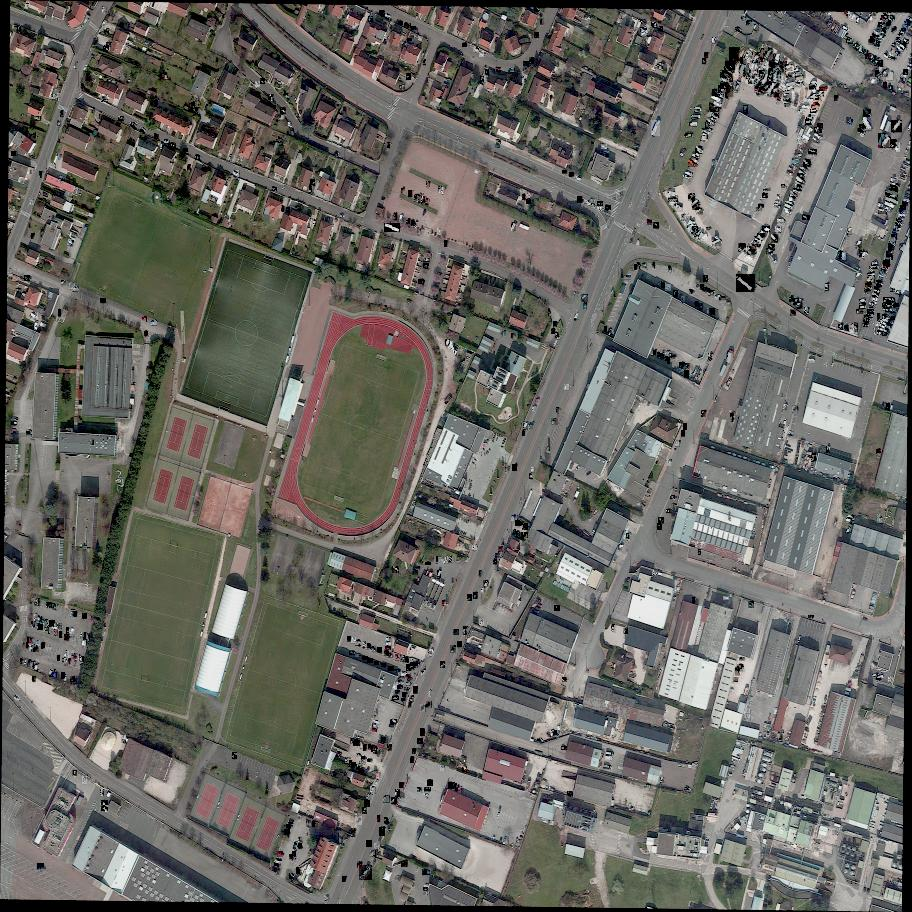large-vehicle: (736, 274, 756, 292), (359, 866, 373, 880), (729, 48, 740, 64), (384, 223, 401, 233), (651, 120, 661, 137), (720, 71, 733, 83), (724, 61, 736, 74), (769, 85, 780, 98), (761, 82, 772, 95), (726, 85, 736, 99), (800, 87, 805, 113), (760, 74, 770, 87), (765, 49, 775, 62), (767, 83, 776, 97), (892, 120, 902, 132), (878, 134, 886, 148), (882, 137, 892, 148), (747, 247, 758, 257), (709, 103, 721, 112), (753, 81, 762, 93), (863, 118, 871, 131), (768, 68, 776, 81), (673, 203, 683, 213), (779, 61, 788, 72), (752, 53, 761, 64), (739, 64, 746, 78), (885, 196, 897, 204), (712, 89, 724, 97), (885, 190, 898, 197), (771, 234, 780, 244), (757, 87, 766, 97), (727, 349, 733, 363), (770, 55, 776, 69), (773, 69, 779, 83), (890, 181, 899, 190), (886, 73, 895, 82), (718, 86, 727, 95), (720, 82, 729, 91), (738, 243, 747, 252), (744, 253, 754, 261), (777, 94, 785, 104), (890, 140, 898, 150), (797, 177, 806, 185), (889, 187, 898, 195), (748, 76, 756, 85), (754, 236, 763, 244), (689, 161, 698, 169), (690, 157, 699, 165), (706, 119, 715, 127), (711, 113, 720, 121), (857, 128, 865, 137), (859, 125, 868, 133), (749, 52, 756, 62), (760, 48, 765, 62), (759, 70, 766, 80), (795, 75, 805, 82), (701, 129, 711, 136), (775, 54, 781, 65), (100, 805, 108, 813), (863, 109, 871, 117), (849, 14, 857, 22), (687, 221, 695, 229), (694, 231, 702, 239), (724, 67, 732, 75), (784, 205, 793, 212), (814, 133, 823, 140), (511, 222, 518, 231), (380, 827, 387, 836), (867, 276, 876, 283), (691, 201, 700, 208), (692, 227, 699, 236), (713, 240, 722, 247), (762, 226, 771, 233), (720, 78, 730, 84), (803, 160, 811, 167), (884, 53, 892, 60), (811, 104, 819, 111), (856, 241, 863, 249), (856, 273, 863, 281), (762, 62, 769, 70), (786, 65, 794, 72), (786, 85, 794, 92), (757, 234, 765, 241), (683, 175, 691, 182), (790, 192, 799, 198), (808, 149, 817, 155), (849, 325, 855, 334), (777, 71, 781, 84), (896, 142, 901, 152), (697, 209, 704, 216), (689, 225, 696, 232), (750, 244, 757, 251), (790, 309, 797, 316), (788, 194, 796, 200), (813, 138, 821, 144), (852, 324, 858, 332), (455, 348, 461, 356), (702, 234, 708, 242), (795, 72, 803, 78), (746, 74, 752, 82), (714, 101, 722, 107), (750, 63, 756, 71), (753, 79, 759, 87), (705, 123, 713, 129), (878, 209, 887, 214), (699, 232, 704, 241), (764, 47, 767, 62), (692, 154, 701, 159), (736, 82, 740, 93), (795, 181, 802, 187), (797, 174, 804, 180), (800, 167, 807, 173), (870, 14, 876, 21), (810, 93, 817, 99), (805, 120, 812, 126), (817, 91, 824, 97), (450, 344, 456, 351), (523, 424, 529, 431), (618, 544, 624, 551), (859, 251, 866, 257), (862, 253, 868, 260), (784, 93, 791, 99), (695, 151, 701, 158), (705, 127, 712, 133), (802, 215, 810, 220), (785, 202, 793, 207), (794, 186, 802, 191), (810, 109, 818, 114), (819, 87, 827, 92), (446, 340, 451, 348), (856, 310, 864, 315), (871, 57, 877, 63), (847, 229, 853, 235), (696, 146, 702, 152), (636, 263, 642, 269), (817, 124, 823, 130), (856, 18, 861, 25), (437, 570, 441, 578), (793, 189, 799, 194), (816, 96, 822, 101), (795, 69, 801, 74), (668, 199, 678, 202), (454, 346, 458, 353), (859, 306, 866, 310), (604, 765, 611, 769), (735, 668, 742, 672), (787, 82, 794, 86), (685, 173, 692, 177), (842, 253, 846, 260), (730, 413, 733, 422), (782, 73, 784, 86), (847, 519, 852, 524), (449, 342, 453, 348), (606, 752, 614, 755), (785, 103, 791, 107), (666, 192, 674, 195), (786, 91, 792, 95), (782, 85, 785, 93), (702, 134, 708, 138), (755, 63, 757, 74), (605, 757, 612, 760), (713, 159, 716, 166), (689, 123, 696, 126), (685, 134, 692, 137), (700, 138, 707, 141), (807, 98, 812, 102), (877, 676, 882, 680), (810, 81, 816, 84), (807, 117, 813, 120), (859, 300, 865, 303), (826, 446, 829, 452), (692, 115, 698, 118), (464, 627, 466, 635), (740, 57, 742, 65), (810, 85, 815, 88), (871, 263, 876, 266), (865, 287, 870, 290), (813, 101, 820, 103), (870, 267, 877, 269), (796, 81, 803, 83), (778, 220, 784, 222), (796, 85, 802, 87), (810, 90, 816, 92), (868, 274, 872, 277), (808, 359, 814, 361), (709, 353, 711, 359), (784, 99, 790, 101), (747, 52, 749, 58), (866, 282, 871, 284), (848, 516, 853, 518), (787, 75, 792, 77), (713, 38, 715, 43), (695, 108, 700, 110), (803, 107, 807, 109), (873, 675, 877, 677), (430, 649, 432, 653), (809, 114, 816, 115)
small-vehicle: (753, 240, 762, 249), (684, 215, 692, 225), (101, 800, 109, 809), (355, 816, 363, 825), (391, 797, 399, 806), (420, 668, 428, 677), (792, 406, 800, 415), (681, 214, 691, 221), (815, 127, 823, 135), (688, 193, 696, 201), (882, 69, 890, 77), (82, 776, 89, 785), (351, 828, 358, 837), (31, 313, 40, 320), (692, 204, 701, 211), (121, 736, 128, 744), (233, 171, 241, 178), (49, 669, 56, 677), (370, 850, 377, 858), (392, 567, 400, 574), (793, 298, 800, 306), (370, 786, 377, 794), (384, 796, 391, 804), (483, 580, 490, 588), (448, 782, 455, 790), (406, 73, 413, 81), (886, 254, 894, 261), (883, 260, 891, 267), (900, 43, 908, 50), (581, 294, 588, 302), (577, 196, 585, 203), (870, 78, 878, 85), (798, 299, 803, 309), (103, 46, 110, 53), (14, 696, 21, 703), (364, 800, 371, 807), (69, 284, 76, 291), (70, 236, 77, 243), (355, 640, 362, 647), (280, 107, 287, 114), (413, 661, 420, 668), (868, 39, 875, 46), (665, 285, 672, 292), (512, 464, 519, 471), (518, 521, 525, 528), (766, 249, 773, 256), (893, 228, 900, 235), (653, 222, 660, 229), (551, 419, 558, 426), (358, 861, 364, 869), (366, 840, 372, 848), (373, 780, 379, 788), (450, 645, 456, 653), (390, 720, 398, 726), (421, 705, 427, 713), (384, 649, 390, 657), (737, 665, 745, 671), (749, 601, 755, 609), (401, 861, 409, 867), (523, 523, 529, 531), (886, 251, 894, 257), (873, 289, 881, 295), (708, 291, 716, 297), (898, 212, 906, 218), (574, 313, 580, 321), (844, 33, 850, 41), (875, 58, 881, 66), (878, 60, 884, 68), (195, 107, 201, 114), (191, 102, 197, 109), (49, 621, 55, 628), (277, 852, 284, 858), (38, 864, 45, 870), (82, 614, 88, 621), (69, 628, 75, 635), (67, 636, 73, 643), (64, 634, 70, 641), (71, 653, 77, 660), (845, 526, 851, 533), (884, 297, 890, 304), (371, 745, 377, 752), (362, 807, 368, 814), (367, 794, 373, 801), (426, 780, 433, 786), (467, 595, 473, 602), (453, 629, 459, 636), (409, 695, 415, 702), (440, 661, 446, 668), (417, 739, 423, 746), (57, 156, 63, 163), (59, 176, 66, 182), (24, 276, 31, 282), (152, 320, 158, 327), (440, 765, 446, 772), (567, 791, 574, 797), (388, 652, 395, 658), (372, 646, 378, 653), (641, 27, 648, 33), (479, 51, 486, 57), (762, 193, 769, 199), (437, 229, 443, 236), (368, 16, 374, 23), (311, 179, 317, 186), (271, 186, 278, 192), (268, 94, 274, 101), (427, 702, 433, 709), (404, 23, 411, 29), (746, 21, 753, 27), (870, 36, 877, 42), (407, 664, 413, 671), (292, 845, 298, 852), (641, 31, 648, 37), (679, 362, 685, 369), (624, 275, 631, 281), (673, 291, 679, 298), (667, 459, 673, 466), (902, 201, 909, 207), (888, 244, 895, 250), (885, 257, 892, 263), (706, 288, 712, 295), (768, 245, 775, 251), (775, 227, 782, 233), (789, 295, 795, 302), (900, 244, 906, 251), (479, 619, 485, 626), (874, 30, 880, 37), (897, 47, 904, 53), (883, 13, 890, 19), (906, 19, 912, 26), (575, 176, 582, 182), (848, 13, 854, 20), (843, 26, 850, 32), (232, 752, 237, 760), (27, 659, 32, 667), (35, 663, 40, 671), (825, 283, 830, 291), (886, 403, 891, 411), (867, 310, 875, 315), (374, 747, 379, 755), (414, 686, 419, 694), (656, 63, 664, 68), (684, 370, 689, 378), (684, 423, 689, 431), (516, 531, 521, 539), (275, 858, 281, 864), (40, 867, 46, 873), (154, 134, 160, 140), (838, 324, 844, 330), (374, 844, 380, 850), (882, 313, 888, 319), (885, 306, 891, 312), (886, 303, 892, 309), (864, 319, 870, 325), (879, 270, 885, 276), (472, 545, 478, 551), (373, 720, 379, 726), (29, 315, 35, 321), (13, 276, 19, 282), (101, 298, 107, 304), (62, 281, 68, 287), (869, 302, 875, 308), (462, 767, 468, 773), (496, 139, 502, 145), (473, 48, 479, 54), (529, 58, 535, 64), (534, 33, 540, 39), (260, 78, 266, 84), (735, 670, 741, 676), (562, 677, 568, 683), (642, 263, 648, 269), (515, 520, 521, 526), (498, 546, 504, 552), (657, 524, 663, 530), (658, 518, 664, 524), (700, 284, 706, 290), (889, 241, 895, 247), (877, 280, 883, 286), (876, 283, 882, 289), (703, 276, 709, 282), (894, 225, 900, 231), (872, 34, 878, 40), (892, 27, 898, 33), (888, 51, 894, 57), (903, 70, 909, 76), (597, 201, 603, 207), (565, 385, 571, 391), (856, 45, 862, 51), (866, 53, 872, 59), (43, 626, 48, 633), (287, 822, 294, 827), (187, 164, 192, 171), (228, 154, 233, 161), (833, 475, 840, 480), (392, 696, 399, 701), (442, 557, 447, 564), (889, 298, 896, 303), (866, 313, 873, 318), (400, 782, 405, 789), (353, 739, 358, 746), (473, 593, 478, 600), (408, 701, 413, 708), (429, 689, 434, 696), (57, 120, 62, 127), (83, 65, 88, 72), (11, 421, 18, 426), (73, 287, 80, 292), (351, 637, 356, 644), (367, 658, 374, 663), (388, 666, 395, 671), (409, 191, 414, 198), (422, 197, 427, 204), (399, 85, 406, 90), (255, 81, 260, 88), (423, 264, 430, 269), (379, 11, 386, 16), (284, 830, 291, 835), (876, 70, 881, 77), (294, 842, 299, 849), (358, 766, 363, 773), (665, 351, 672, 356), (681, 296, 686, 303), (523, 532, 528, 539), (892, 178, 899, 183), (849, 119, 854, 126), (888, 247, 895, 252), (710, 308, 715, 315), (897, 216, 904, 221), (895, 38, 902, 43), (890, 15, 895, 22), (601, 145, 608, 150), (608, 328, 613, 335), (548, 308, 553, 315), (811, 454, 815, 462), (744, 105, 748, 113), (171, 143, 177, 148), (26, 2, 32, 7), (53, 624, 58, 630), (289, 855, 294, 861), (274, 861, 280, 866), (289, 874, 294, 880), (73, 771, 78, 777), (65, 660, 70, 666), (71, 677, 76, 683), (73, 661, 78, 667), (877, 330, 883, 335), (844, 326, 849, 332), (783, 420, 788, 426), (876, 322, 881, 328), (887, 323, 893, 328), (893, 303, 899, 308), (895, 291, 901, 296), (388, 745, 393, 751), (413, 749, 418, 755), (373, 723, 378, 729), (417, 788, 423, 793), (423, 793, 429, 798), (883, 329, 889, 334), (118, 116, 124, 121), (144, 331, 149, 337), (885, 325, 891, 330), (453, 783, 458, 789), (553, 730, 558, 736), (400, 656, 405, 662), (350, 651, 356, 656), (377, 648, 383, 653), (777, 194, 783, 199), (339, 214, 345, 219), (106, 43, 112, 48), (11, 151, 17, 156), (286, 207, 291, 213), (312, 220, 317, 226), (411, 26, 417, 31), (735, 27, 741, 32), (382, 738, 387, 744), (526, 199, 531, 205), (352, 762, 357, 768), (702, 411, 707, 417), (651, 22, 657, 27), (716, 296, 722, 301), (891, 235, 897, 240), (554, 606, 560, 611), (903, 39, 909, 44), (899, 31, 905, 36), (894, 41, 900, 46), (892, 43, 898, 48), (880, 32, 886, 37), (704, 52, 709, 58), (615, 486, 620, 492), (723, 596, 729, 601), (623, 628, 628, 634), (660, 778, 665, 784), (880, 34, 885, 40), (605, 205, 611, 210), (555, 333, 560, 339), (846, 38, 851, 44), (849, 39, 854, 45), (569, 172, 575, 177), (870, 54, 875, 60), (883, 83, 888, 89), (37, 623, 41, 630), (61, 672, 65, 679), (76, 654, 80, 661), (35, 646, 39, 653), (32, 645, 36, 652), (37, 640, 41, 647), (882, 318, 889, 322), (882, 303, 886, 310), (411, 756, 415, 763), (424, 787, 431, 791), (558, 724, 562, 731), (438, 186, 442, 193), (494, 145, 501, 149), (648, 809, 652, 816), (349, 760, 353, 767), (668, 266, 672, 273), (662, 282, 666, 289), (699, 303, 703, 310), (879, 275, 886, 279), (611, 624, 615, 631), (798, 636, 802, 643), (883, 401, 886, 410), (342, 878, 347, 883), (865, 316, 870, 321), (36, 117, 41, 122), (142, 318, 147, 323), (480, 77, 485, 82), (776, 201, 781, 206), (385, 14, 390, 19), (423, 870, 428, 875), (337, 752, 342, 757), (875, 287, 880, 292), (896, 222, 901, 227), (891, 56, 896, 61), (896, 51, 901, 56), (882, 27, 887, 32), (902, 24, 907, 29), (876, 41, 881, 46), (874, 44, 879, 49), (648, 220, 653, 225), (846, 12, 851, 17), (854, 44, 859, 49), (878, 75, 883, 80), (299, 844, 303, 850), (33, 677, 37, 683), (49, 602, 53, 608), (104, 29, 110, 33), (351, 738, 355, 744), (458, 642, 462, 648), (61, 111, 65, 117), (103, 7, 107, 13), (347, 636, 351, 642), (561, 747, 567, 751), (396, 654, 400, 660), (461, 43, 467, 47), (485, 69, 489, 75), (879, 66, 883, 72), (286, 824, 292, 828), (423, 887, 429, 891), (872, 297, 878, 301), (665, 355, 669, 361), (682, 430, 686, 436), (520, 497, 524, 503), (878, 277, 884, 281), (522, 431, 526, 437), (900, 77, 906, 81), (901, 74, 907, 78), (703, 59, 707, 65), (552, 328, 556, 334), (536, 398, 540, 404), (890, 85, 894, 91), (44, 619, 47, 626), (83, 632, 86, 639), (90, 616, 93, 623), (435, 556, 438, 563), (396, 789, 399, 796), (779, 733, 782, 740), (394, 213, 397, 220), (839, 252, 842, 259), (46, 627, 50, 632), (164, 140, 169, 144), (82, 641, 86, 646), (81, 633, 85, 638), (445, 556, 449, 561), (889, 301, 894, 305), (69, 239, 73, 244), (407, 678, 412, 682), (775, 203, 779, 208), (309, 186, 313, 191), (357, 754, 362, 758), (417, 661, 421, 666), (292, 852, 296, 857), (423, 892, 428, 896), (534, 8, 539, 12), (667, 358, 671, 363), (689, 290, 694, 294), (901, 205, 906, 209), (892, 232, 897, 236), (890, 238, 895, 242), (880, 20, 885, 24), (878, 23, 883, 27), (898, 34, 903, 38), (886, 22, 891, 26), (658, 27, 663, 31), (58, 624, 61, 630), (54, 629, 57, 635), (59, 632, 62, 638), (57, 655, 60, 661), (64, 675, 67, 681), (30, 638, 33, 644), (30, 645, 33, 651), (42, 642, 45, 648), (849, 474, 852, 480), (889, 317, 895, 320), (481, 587, 484, 593), (363, 745, 366, 751), (385, 817, 388, 823), (421, 729, 424, 735), (46, 602, 49, 608), (58, 310, 61, 316), (30, 199, 33, 205), (456, 785, 459, 791), (362, 656, 368, 659), (400, 216, 403, 222), (411, 220, 414, 226), (282, 206, 285, 212), (424, 259, 430, 262), (522, 77, 525, 83), (719, 297, 725, 300), (345, 758, 348, 764), (521, 533, 524, 539), (495, 553, 498, 559), (693, 597, 696, 603), (645, 784, 651, 787), (877, 515, 880, 521), (604, 326, 607, 332), (860, 46, 863, 52), (67, 651, 69, 659), (196, 156, 200, 160), (883, 332, 887, 336), (888, 320, 892, 324), (140, 128, 144, 132), (131, 123, 135, 127), (17, 288, 21, 292), (402, 672, 406, 676), (415, 194, 417, 202), (563, 170, 567, 174), (695, 302, 699, 306), (882, 16, 886, 20), (888, 19, 892, 23), (876, 37, 880, 41), (584, 302, 586, 310), (585, 200, 589, 204), (18, 27, 21, 32), (56, 623, 59, 628), (40, 625, 43, 630), (314, 822, 317, 827), (312, 822, 315, 827), (296, 868, 299, 873), (34, 615, 37, 620), (74, 612, 77, 617), (784, 404, 787, 409), (805, 307, 808, 312), (882, 267, 887, 270), (372, 728, 377, 731), (103, 94, 108, 97), (844, 9, 847, 14), (405, 657, 408, 662), (386, 642, 391, 645), (363, 642, 366, 647), (556, 732, 559, 737), (385, 647, 390, 650), (397, 685, 402, 688), (395, 690, 400, 693), (426, 199, 429, 204), (426, 182, 429, 187), (496, 68, 501, 71), (444, 242, 447, 247), (335, 152, 340, 155), (288, 122, 291, 127), (398, 22, 403, 25), (523, 62, 528, 65), (755, 25, 758, 30), (413, 567, 418, 570), (671, 356, 676, 359), (660, 353, 663, 358), (683, 364, 686, 369), (652, 262, 655, 267), (513, 529, 516, 534), (666, 510, 671, 513), (847, 118, 850, 123), (891, 46, 896, 49), (629, 807, 634, 810), (826, 13, 831, 16), (66, 628, 68, 635), (299, 815, 301, 822), (878, 313, 880, 320), (378, 815, 380, 822), (71, 610, 73, 617), (40, 171, 42, 178), (552, 729, 554, 736), (35, 623, 38, 627), (87, 633, 89, 639), (54, 671, 56, 677), (39, 618, 42, 622), (25, 659, 27, 665), (873, 329, 876, 333), (876, 450, 880, 453), (425, 563, 431, 565), (891, 288, 895, 291), (101, 99, 105, 102), (12, 417, 16, 420), (12, 429, 16, 432), (459, 787, 461, 793), (545, 787, 551, 789), (403, 693, 406, 697), (355, 654, 359, 657), (382, 664, 386, 667), (764, 190, 768, 193), (541, 19, 543, 25), (401, 188, 403, 194), (361, 757, 365, 760), (419, 280, 423, 283), (408, 38, 412, 41), (550, 95, 552, 101), (741, 17, 745, 20), (427, 870, 430, 874), (424, 884, 428, 887), (361, 768, 363, 774), (658, 352, 660, 358), (506, 467, 508, 473), (512, 515, 514, 521), (676, 442, 679, 446), (835, 95, 837, 101), (903, 200, 909, 202), (899, 208, 903, 211), (530, 423, 532, 429), (699, 549, 701, 555), (613, 626, 615, 632), (808, 616, 814, 618), (590, 204, 594, 207), (503, 331, 505, 337), (533, 406, 535, 412), (81, 656, 83, 661), (78, 655, 80, 660), (47, 621, 49, 626), (49, 628, 51, 633), (299, 838, 301, 843), (53, 604, 55, 609), (69, 659, 71, 664), (32, 621, 34, 626), (891, 310, 896, 312), (479, 570, 481, 575), (358, 741, 360, 746), (369, 745, 371, 750), (377, 773, 379, 778), (32, 234, 34, 239), (368, 644, 370, 649), (404, 688, 409, 690), (418, 229, 420, 234), (367, 759, 372, 761), (411, 663, 413, 668), (635, 264, 637, 269), (494, 558, 496, 563), (501, 539, 503, 544), (708, 309, 710, 314), (627, 534, 629, 539), (684, 788, 689, 790), (889, 677, 891, 682), (863, 49, 865, 54), (864, 324, 867, 327), (668, 353, 671, 356), (703, 288, 706, 291), (43, 619, 45, 623), (155, 100, 157, 104), (184, 149, 188, 151), (101, 790, 103, 794), (55, 605, 57, 609), (37, 616, 39, 620), (74, 637, 76, 641), (74, 62, 76, 66), (757, 208, 761, 210), (406, 683, 410, 685), (375, 662, 379, 664), (395, 670, 399, 672), (419, 195, 420, 203), (442, 188, 444, 192), (424, 60, 426, 64), (385, 35, 387, 39), (407, 219, 409, 223), (740, 658, 744, 660), (357, 765, 359, 769), (336, 754, 340, 756), (687, 364, 689, 368), (532, 468, 534, 472), (531, 474, 533, 478), (872, 294, 876, 296), (897, 219, 901, 221), (905, 22, 907, 26), (902, 29, 906, 31), (598, 207, 602, 209), (554, 322, 556, 326), (605, 152, 609, 154), (307, 819, 308, 826), (38, 599, 39, 606), (32, 661, 33, 668), (85, 640, 86, 646), (28, 637, 29, 643), (21, 658, 22, 664), (27, 430, 30, 432), (68, 243, 71, 245), (386, 638, 389, 640), (398, 681, 401, 683), (469, 249, 470, 255), (360, 761, 363, 763), (523, 194, 524, 200), (654, 351, 656, 354), (671, 496, 674, 498), (707, 228, 710, 230), (865, 51, 867, 54), (63, 657, 64, 662), (27, 643, 28, 648), (450, 556, 451, 561), (361, 743, 362, 748), (443, 601, 444, 606), (388, 143, 389, 148), (663, 354, 664, 359), (591, 200, 596, 201), (52, 95, 56, 96), (26, 434, 30, 435), (761, 198, 765, 199), (405, 675, 409, 676), (398, 678, 402, 679), (759, 205, 763, 206), (511, 69, 515, 70), (782, 185, 784, 187), (512, 334, 513, 338), (414, 223, 415, 226), (557, 408, 558, 411), (789, 432, 791, 433), (538, 739, 540, 740), (402, 699, 404, 700), (86, 585, 86, 587)
